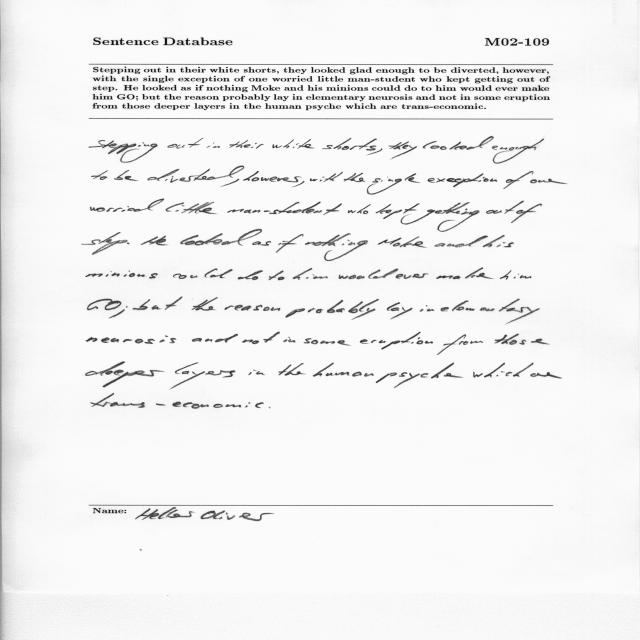word: (376, 363, 505, 388), (376, 202, 480, 232), (427, 299, 540, 325), (91, 393, 263, 409), (86, 362, 164, 388), (285, 299, 379, 320), (170, 362, 236, 389), (305, 233, 368, 261), (148, 166, 245, 183), (89, 140, 158, 163), (181, 229, 263, 246), (492, 139, 544, 164), (360, 332, 433, 349), (228, 202, 322, 215), (367, 173, 420, 195), (436, 267, 519, 280), (82, 232, 127, 255), (428, 173, 497, 187), (437, 334, 483, 355), (91, 199, 165, 212), (313, 362, 374, 377), (368, 142, 417, 160), (87, 335, 177, 344), (126, 297, 183, 310), (173, 268, 233, 279), (339, 269, 399, 280), (494, 333, 549, 345), (323, 138, 377, 150), (434, 236, 488, 248), (243, 171, 301, 182), (449, 136, 494, 150), (166, 202, 217, 214), (511, 204, 542, 223), (378, 236, 427, 248), (86, 271, 158, 279), (504, 171, 534, 189), (276, 234, 304, 253), (486, 201, 524, 214), (387, 302, 413, 320), (242, 332, 280, 344), (273, 139, 315, 149), (293, 268, 328, 280), (506, 362, 534, 377), (192, 334, 238, 343), (483, 235, 514, 248), (191, 297, 218, 311), (304, 338, 351, 346), (88, 299, 122, 310), (167, 138, 203, 148), (279, 363, 306, 376), (225, 305, 281, 311), (310, 172, 343, 182), (229, 140, 264, 149), (114, 170, 138, 181), (141, 236, 167, 246), (238, 270, 263, 280), (348, 204, 371, 214), (323, 203, 342, 215), (530, 372, 562, 379), (423, 141, 447, 150), (344, 173, 366, 182), (396, 273, 428, 279), (530, 179, 568, 184), (92, 170, 108, 180), (269, 271, 285, 281), (109, 309, 125, 319), (221, 179, 239, 187), (248, 370, 265, 376), (252, 241, 271, 246), (293, 181, 305, 187), (514, 275, 532, 279), (206, 143, 220, 148), (283, 337, 296, 342), (420, 305, 428, 312), (366, 146, 376, 151), (127, 243, 130, 245), (269, 407, 271, 409)
